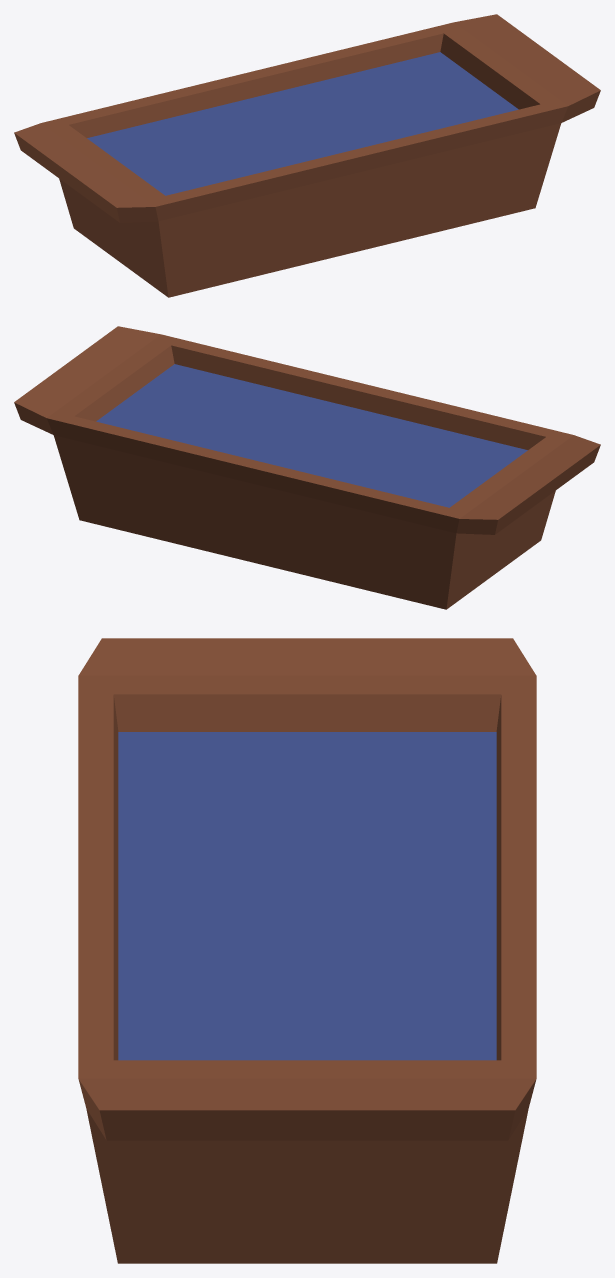
Rendered from trough.fbx.
3 renders of one model, top to bottom at view 1: azimuth 30°, elevation 25°; view 2: azimuth 150°, elevation 25°; view 3: azimuth 270°, elevation 25°, orthographic. The views are drawn at different scales.
Visible parts, largest first — view 1: trough, water 1; view 2: trough, water 1; view 3: trough, water 1.
Boxes of the visible parts, x1,y1,x2,y2 form: trough: (14, 14, 600, 297); water 1: (87, 52, 518, 195); trough: (14, 326, 600, 609); water 1: (96, 364, 527, 507); trough: (78, 638, 536, 1263); water 1: (118, 732, 496, 1060).
Size of the model in its own units: 130 by 27.43 by 53.5.
